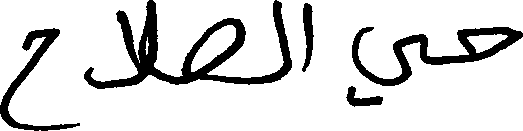ا: (300, 1, 312, 72)
ح: (0, 26, 62, 129), (456, 25, 521, 64)
ص: (179, 15, 246, 84)
ل: (270, 0, 292, 83)
لا: (83, 0, 156, 90)
ي: (350, 25, 422, 108)
